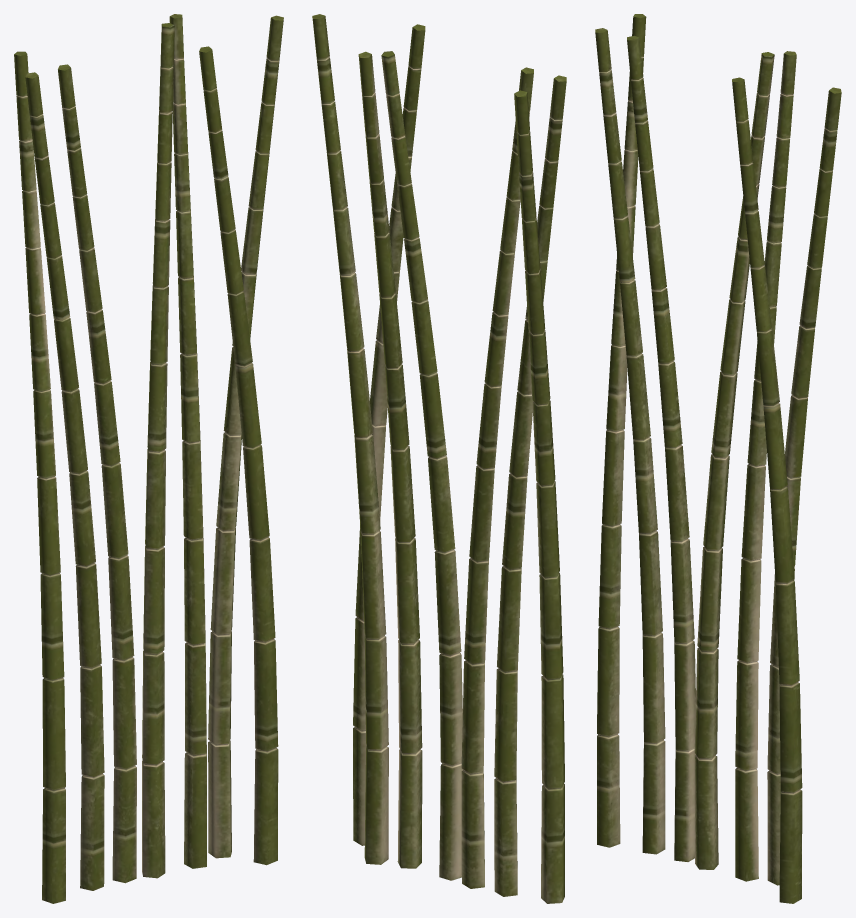
File: patrick-bamboo.glb
The picture shows the model from 3 angles, left to right: view 1: azimuth 30°, elevation 25°; view 2: azimuth 150°, elevation 25°; view 3: azimuth 330°, elevation 25°; orthographic projection. The views are drawn at different scales.
Parts seen in each view (by area): view 1: Bamboo40; view 2: Bamboo40; view 3: Bamboo40.
Boxes of the visible parts, x1,y1,x2,y2 form: Bamboo40: (14,14,283,903); Bamboo40: (312,14,566,903); Bamboo40: (595,14,841,903).
Size of the model in its own units: 0.0514 by 0.1581 by 0.0191.
Materials: 1 (1 with a texture image).
